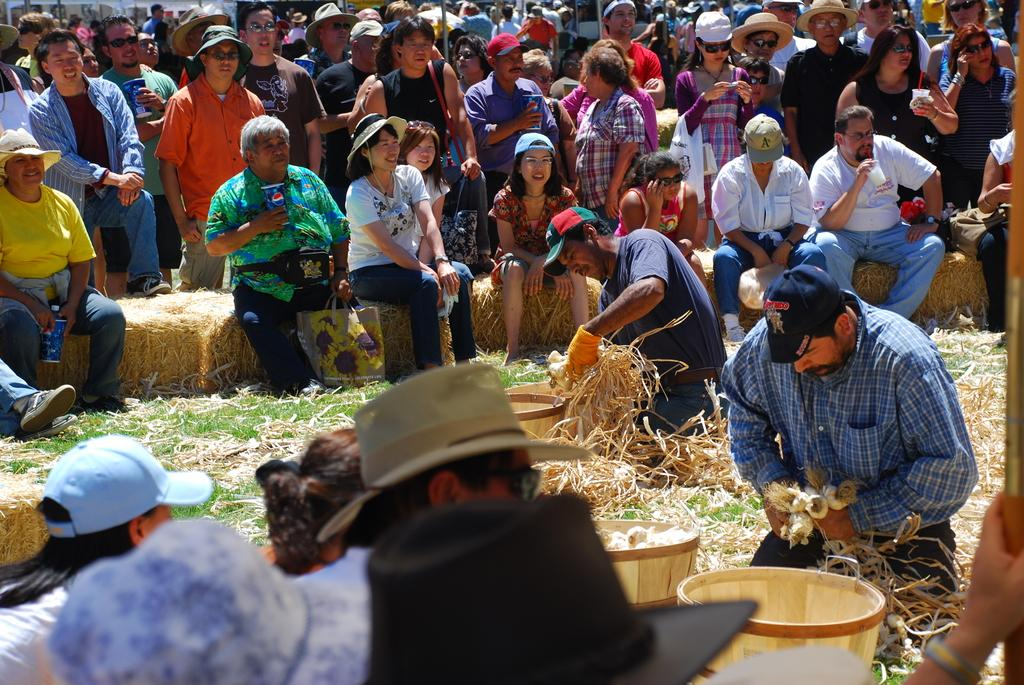Hat: (368, 495, 756, 684), (46, 515, 370, 684), (320, 358, 591, 543), (42, 431, 214, 540), (762, 260, 844, 364), (346, 110, 410, 171), (194, 20, 254, 78), (0, 124, 60, 179), (726, 12, 794, 54), (306, 0, 360, 52), (742, 110, 788, 159), (799, 0, 860, 31), (486, 30, 532, 63), (692, 7, 732, 42), (516, 134, 554, 156)
